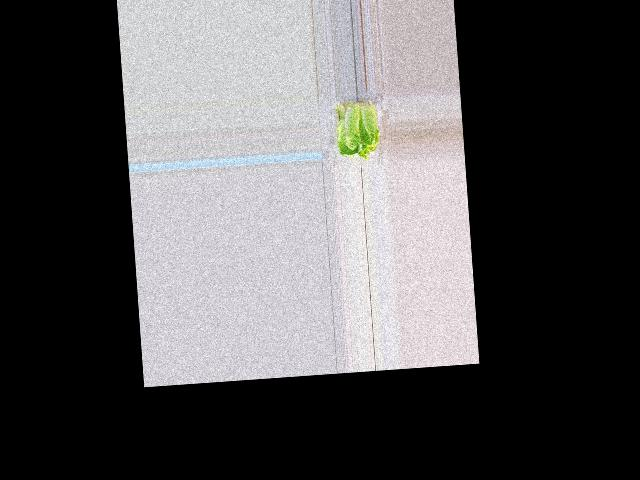lettuce: (334, 102, 381, 161)
